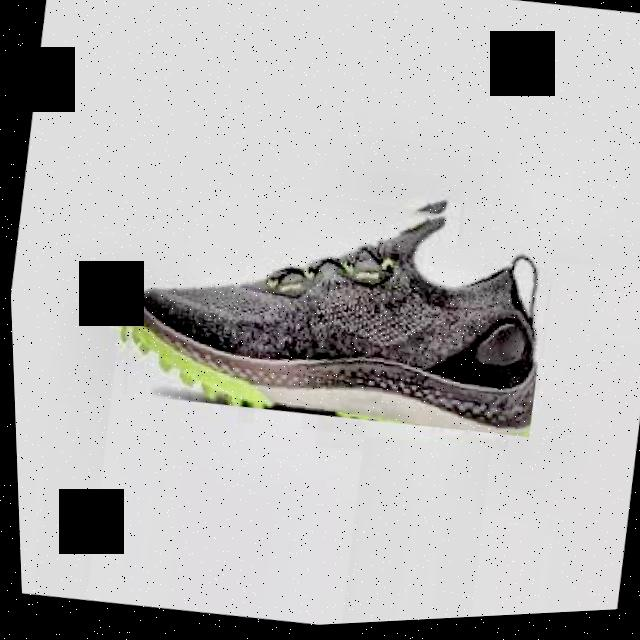shoe: (99, 150, 561, 460)
